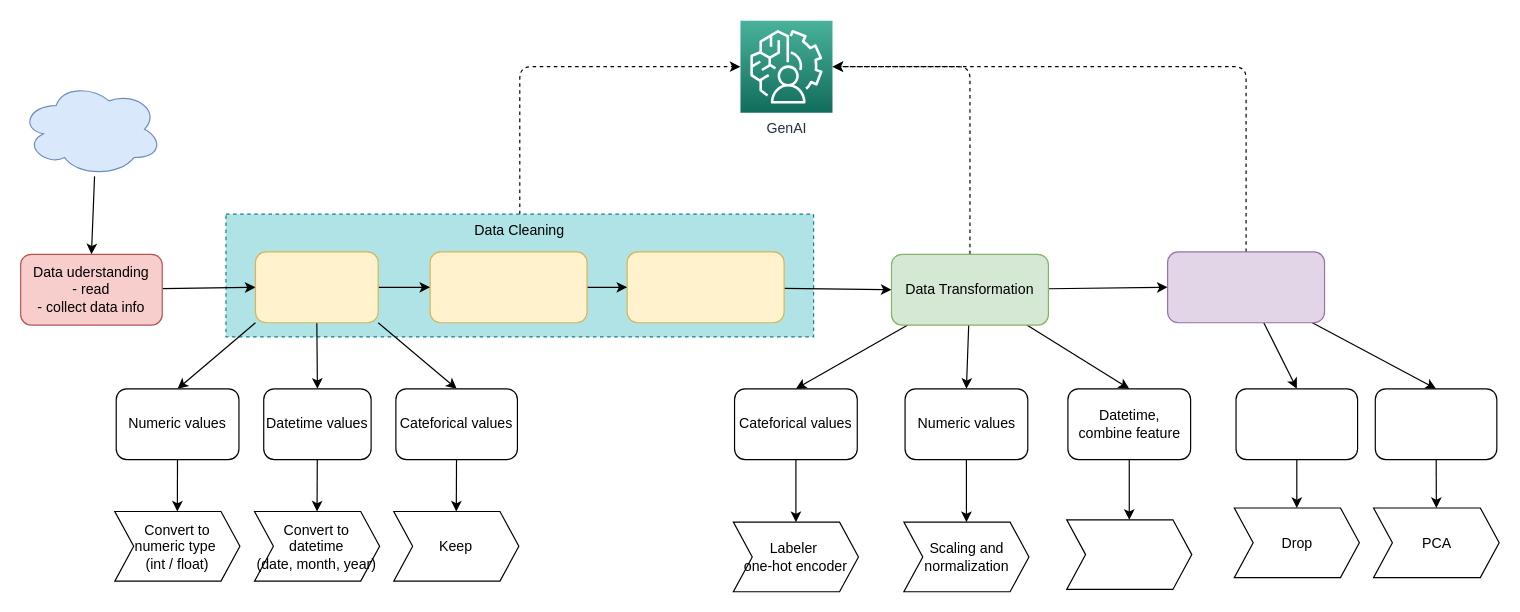
Some shapes in this 1520 by 612 pixel diagram are drawn without their labels. The box of each missing label's shape, as (x1, y1, x2, y2) in pixels:
Data (csv, json, xlsx): (19, 81, 162, 176)
Data type detect and correction: (254, 251, 378, 323)
Dimensionality Reduction: (1374, 388, 1497, 460)
Feature engineering: (1066, 519, 1192, 589)
Feature selection: (1166, 251, 1325, 323)
Handle missing / duplicated values: (429, 251, 587, 323)
Outliner detection and correction: (626, 251, 784, 323)
Unnecessary Features (id, info, note): (1235, 388, 1358, 460)
